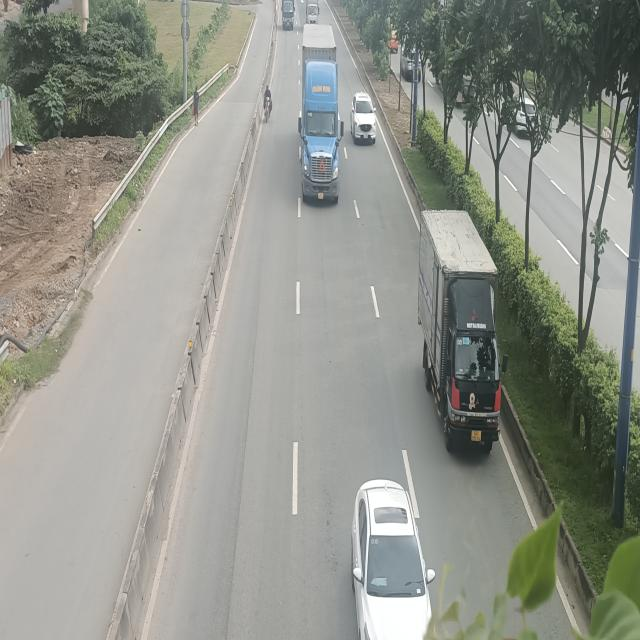car: (418, 209, 508, 453), (350, 479, 436, 640), (349, 91, 377, 142)
container: (297, 25, 344, 191)
truck: (281, 0, 295, 31), (306, 0, 319, 24)
